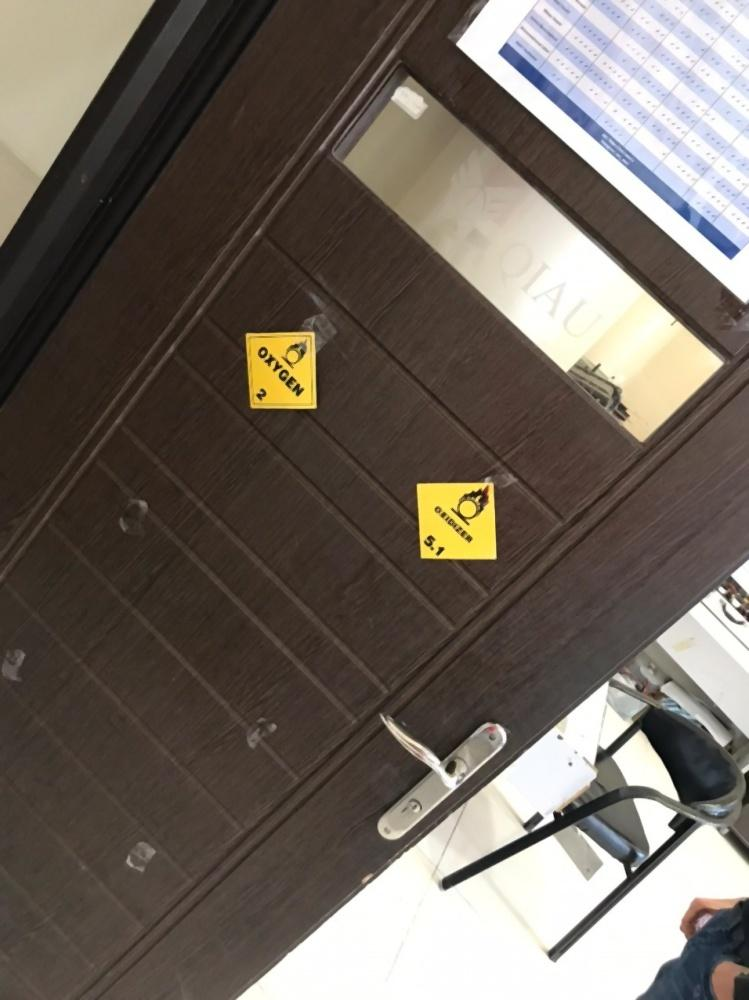oxidizer: (415, 482, 499, 563), (244, 333, 317, 409)
